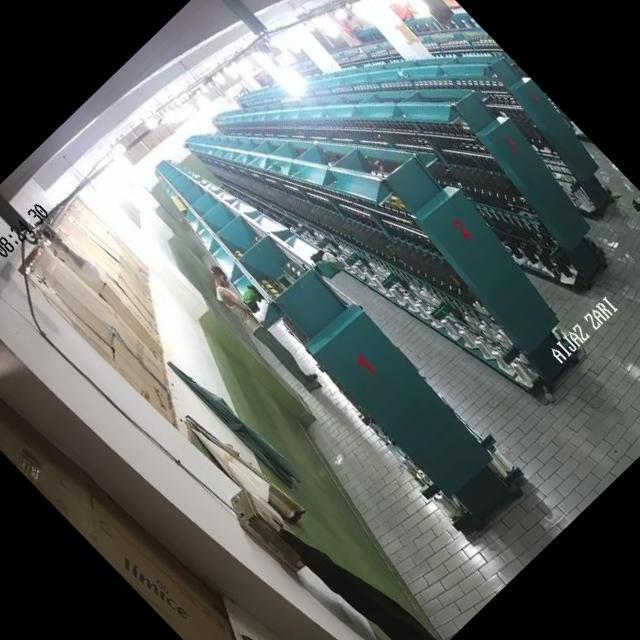person: (194, 260, 327, 396)
